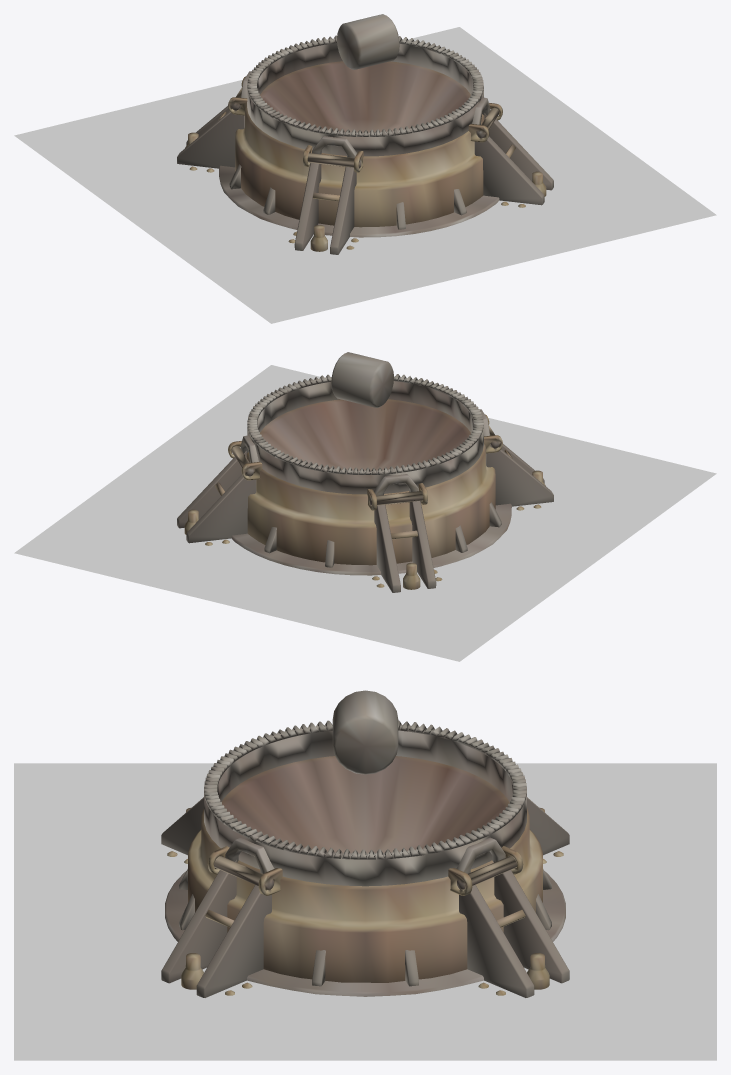
File: gun-turret.0.glb
3 views of the same model, one above another, from view 1: azimuth 30°, elevation 25°; view 2: azimuth 150°, elevation 25°; view 3: azimuth 270°, elevation 25° (orthographic). The views are drawn at different scales.
Visible parts, largest first — view 1: modelo; view 2: modelo; view 3: modelo.
Boxes of the visible parts, x1=… form: modelo: x1=14, y1=14, x2=716, y2=323; modelo: x1=14, y1=352, x2=716, y2=661; modelo: x1=14, y1=690, x2=716, y2=1060.
Bounding box in the file's own units: 6.63 × 2.7 × 6.63.
